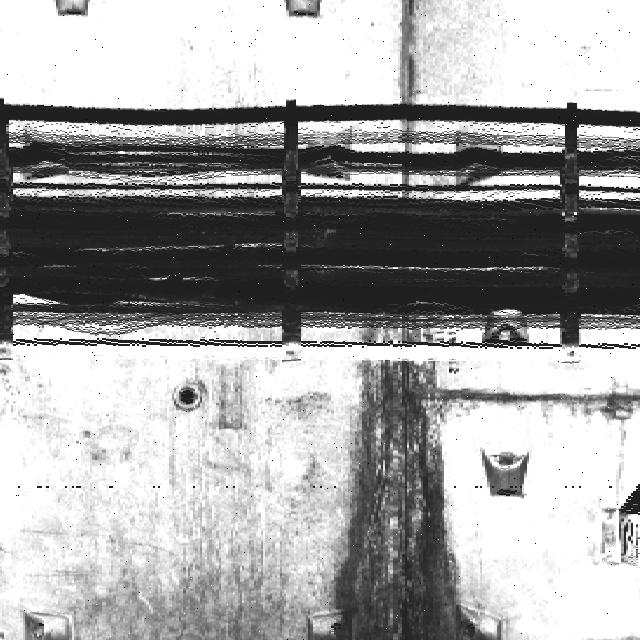leakage: (333, 362, 476, 640)
